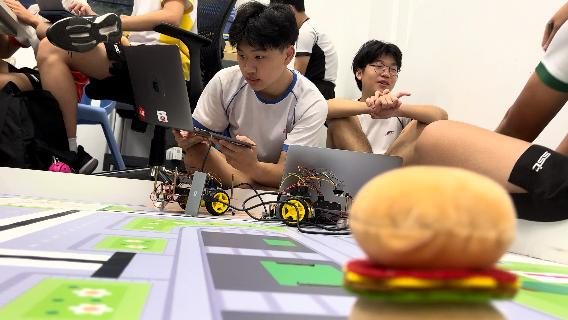burger: (343, 162, 525, 308)
